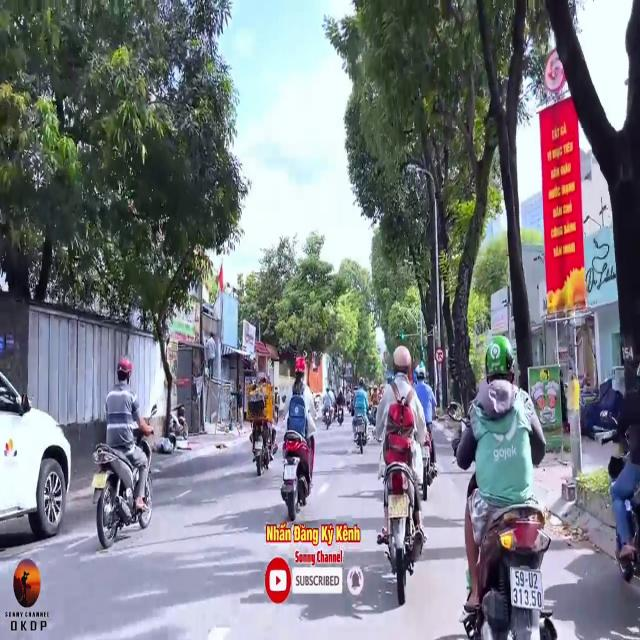bien_trang: (503, 561, 548, 615)
